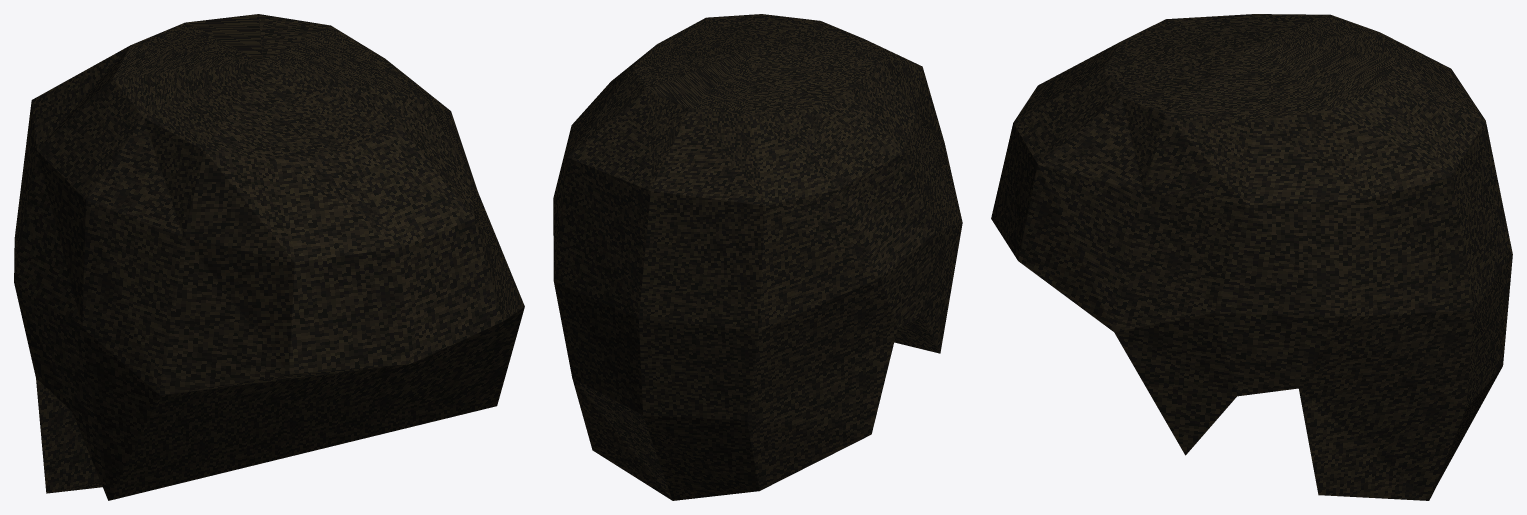
Rendered from short02.fbx.
The picture shows the model from 3 angles, left to right: view 1: azimuth 30°, elevation 25°; view 2: azimuth 150°, elevation 25°; view 3: azimuth 270°, elevation 25°; orthographic projection. The views are drawn at different scales.
Parts seen in each view (by area): view 1: obj_local_short02; view 2: obj_local_short02; view 3: obj_local_short02.
Part boxes in pixels (<box>): obj_local_short02: <box>14,14,524,500</box>; obj_local_short02: <box>553,14,962,500</box>; obj_local_short02: <box>991,14,1512,500</box>.
Bounding box in the file's own units: 0.172 × 0.198 × 0.212.
